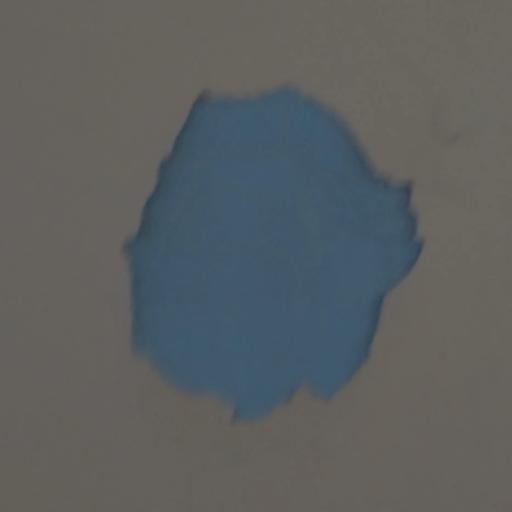peeling: (116, 78, 438, 430)
